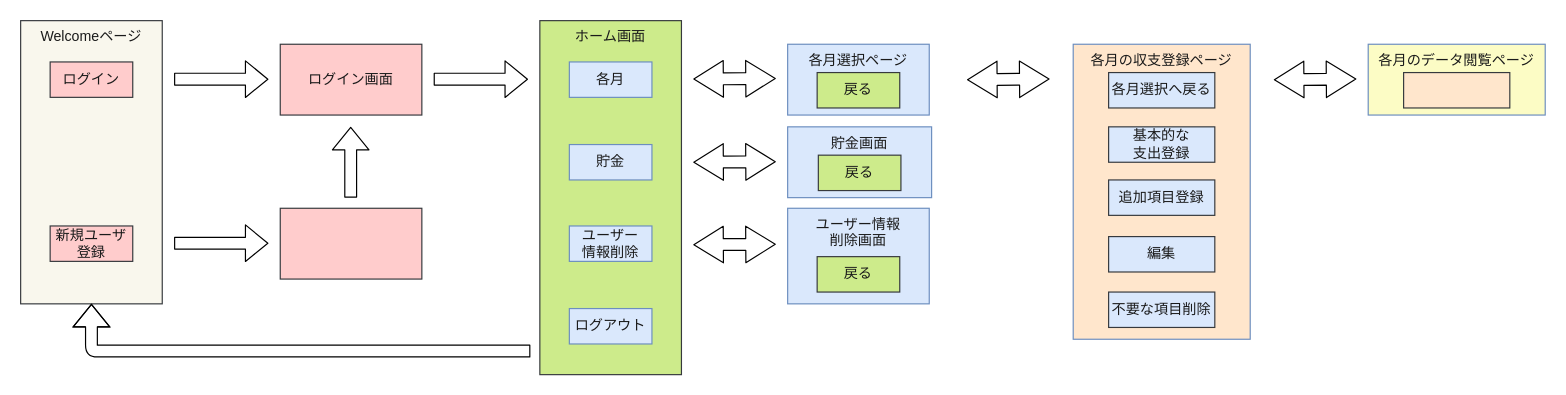
Image size: 1566x395. Some labels were removed from this diagram. The centre of each missing label's shape, as x and y in pixels:
収支登録へ戻る: [1456,89]
新規ユーザ登録画面: [350,243]
